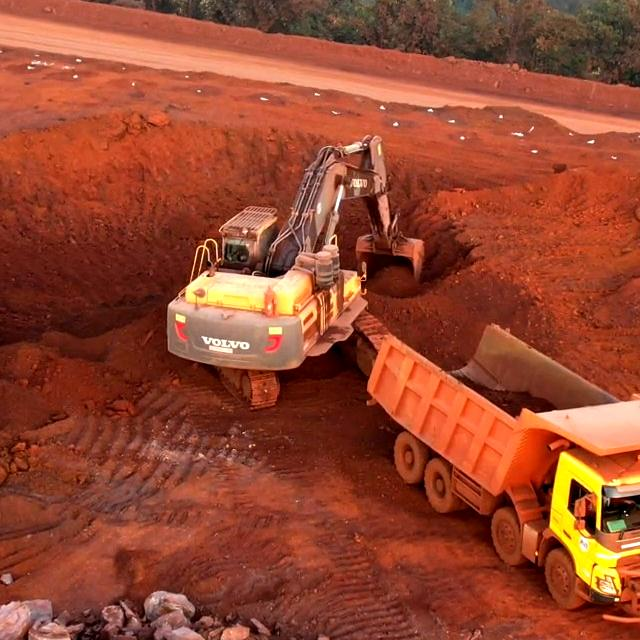Dumper truck: (510, 424, 640, 594)
Excavator: (167, 213, 384, 355)
